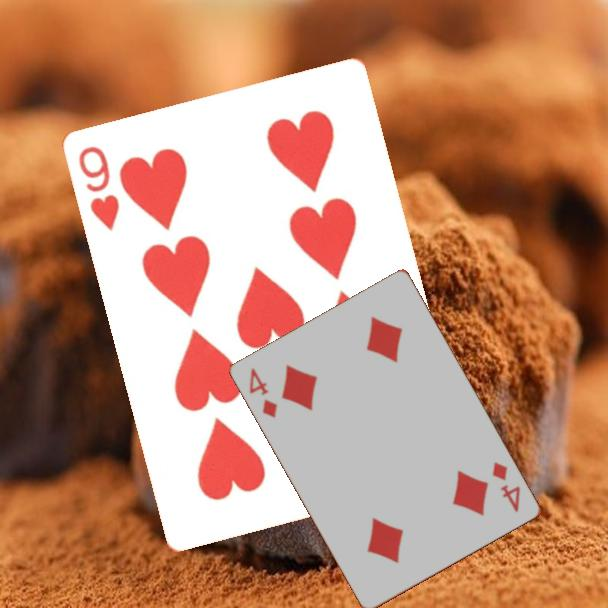d04: (246, 364, 281, 421), (489, 459, 524, 515)
h09: (75, 143, 123, 234)
